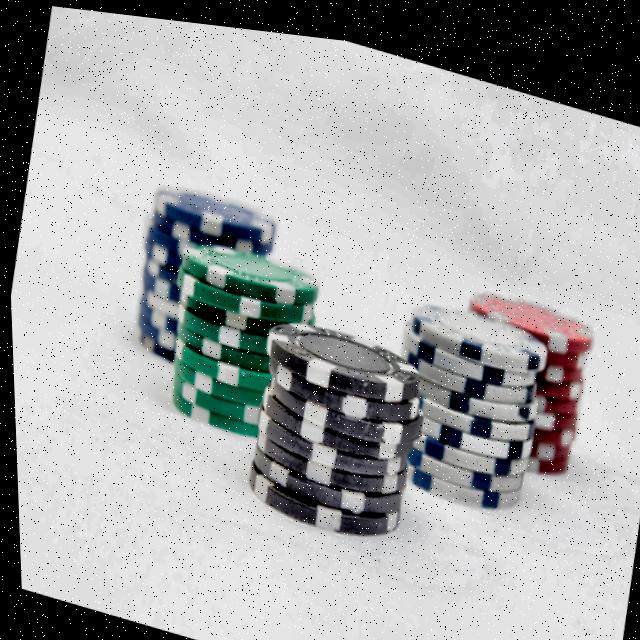Chip: (221, 293, 433, 564), (371, 266, 563, 524), (140, 218, 341, 464), (96, 157, 290, 394), (433, 250, 616, 492)
